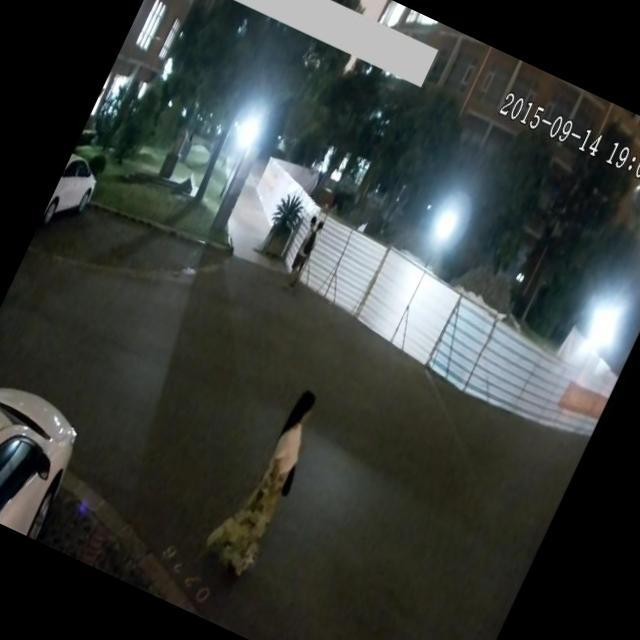person: (194, 375, 336, 587), (284, 212, 322, 282)
